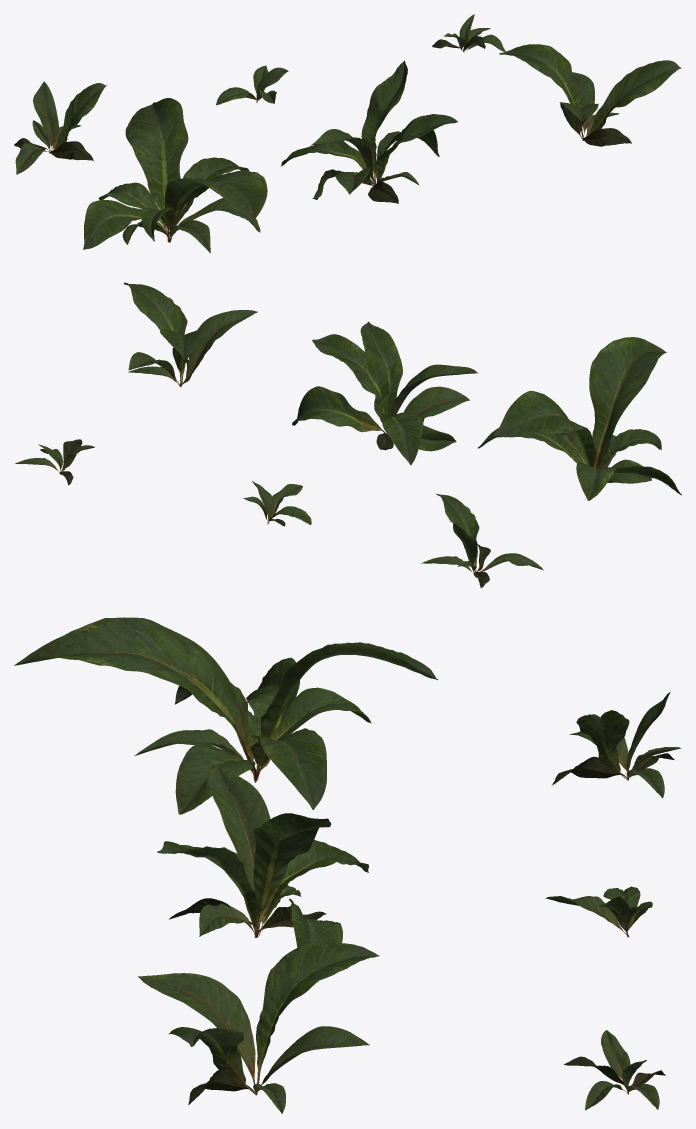
3 renders of one model, top to bottom at view 1: azimuth 30°, elevation 25°; view 2: azimuth 150°, elevation 25°; view 3: azimuth 270°, elevation 25°, orthographic. The views are drawn at different scales.
Parts seen in each view (by area): view 1: anthurium_botany_01_a, anthurium_botany_01_b, anthurium_botany_01_c, anthurium_botany_04_d, anthurium_botany_05_e, anthurium_botany_06_f; view 2: anthurium_botany_01_a, anthurium_botany_01_b, anthurium_botany_01_c, anthurium_botany_04_d, anthurium_botany_05_e, anthurium_botany_06_f; view 3: anthurium_botany_01_a, anthurium_botany_01_b, anthurium_botany_01_c, anthurium_botany_04_d, anthurium_botany_06_f, anthurium_botany_05_e.
Boxes of the visible parts, x1,y1,x2,y2 form: anthurium_botany_01_a: [83, 98, 267, 253]; anthurium_botany_01_b: [281, 60, 457, 203]; anthurium_botany_01_c: [499, 44, 681, 146]; anthurium_botany_04_d: [14, 81, 106, 174]; anthurium_botany_05_e: [216, 65, 288, 105]; anthurium_botany_06_f: [432, 14, 505, 52]; anthurium_botany_01_a: [478, 337, 681, 500]; anthurium_botany_01_b: [292, 321, 477, 465]; anthurium_botany_01_c: [123, 282, 257, 386]; anthurium_botany_04_d: [421, 494, 543, 588]; anthurium_botany_05_e: [243, 481, 311, 526]; anthurium_botany_06_f: [15, 439, 94, 485]; anthurium_botany_01_a: [14, 617, 437, 814]; anthurium_botany_01_b: [157, 763, 368, 981]; anthurium_botany_01_c: [138, 942, 379, 1113]; anthurium_botany_04_d: [552, 692, 680, 798]; anthurium_botany_06_f: [563, 1030, 665, 1110]; anthurium_botany_05_e: [545, 886, 652, 937].
Bounding box in the file's own units: 2.8 × 0.4997 × 1.8.
1 material, 1 textured.
